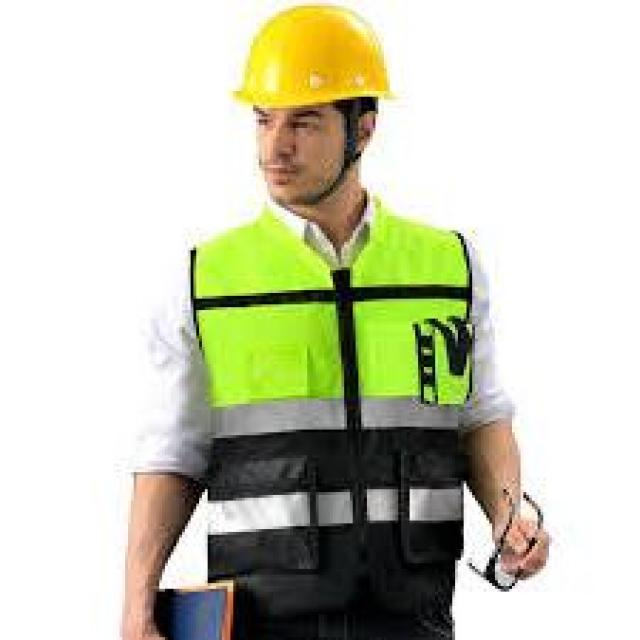Reflective-Jacket: (165, 193, 509, 618)
Safety-Helmet: (227, 0, 404, 117)
